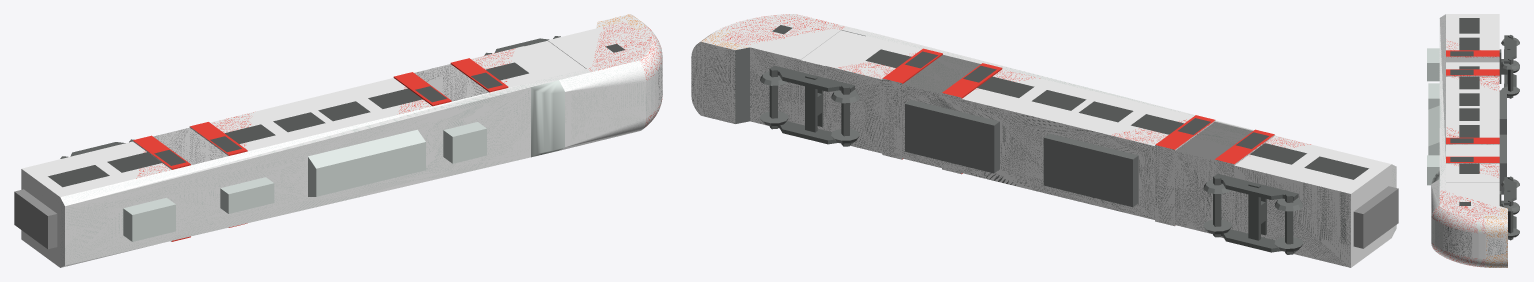
The model's file is train_1_state_2.dae.
3 views of the same model, side by side, from view 1: azimuth 30°, elevation 25°; view 2: azimuth 150°, elevation 25°; view 3: azimuth 270°, elevation 25° (orthographic). The views are drawn at different scales.
Parts seen in each view (by area): view 1: coords_ME_ID231_MA_material_3, coords_ME_ID231_MA_material_10, coords_ME_ID379_MA_material_1, coords_ME_ID271_MA_material_3, coords_ME_ID453_MA_material_3, coords_ME_ID723_MA_material_3, coords_ME_ID295_MA_material_3, coords_ME_ID153_MA_material_1, coords_ME_ID417_MA_material_1, coords_ME_ID339_MA_material_1, coords_ME_ID391_MA_material_1, coords_ME_ID403_MA_material_3 (+20 smaller); view 2: coords_ME_ID723_MA_material_3, coords_ME_ID723_MA_material_13, coords_ME_ID217_MA_material_0, coords_ME_ID247_MA_material_0, coords_ME_ID453_MA_material_3, coords_ME_ID271_MA_material_3, coords_ME_ID231_MA_material_3, coords_ME_ID519_MA_material_3, coords_ME_ID295_MA_material_3, coords_ME_ID231_MA_material_10, coords_ME_ID403_MA_material_3, coords_ME_ID353_MA_material_14 (+28 smaller); view 3: coords_ME_ID453_MA_material_3, coords_ME_ID271_MA_material_3, coords_ME_ID231_MA_material_3, coords_ME_ID295_MA_material_3, coords_ME_ID185_MA_material_3, coords_ME_ID797_MA_material_3, coords_ME_ID579_MA_material_3, coords_ME_ID231_MA_material_10, coords_ME_ID295_MA_material_11, coords_ME_ID379_MA_material_1, coords_ME_ID403_MA_material_3, coords_ME_ID429_MA_material_3 (+46 smaller).
Part boxes in pixels (x1,y1,x2,y2): coords_ME_ID231_MA_material_3: (60,60,658,267); coords_ME_ID231_MA_material_10: (60,61,658,267); coords_ME_ID379_MA_material_1: (308,129,425,196); coords_ME_ID271_MA_material_3: (21,141,143,267); coords_ME_ID453_MA_material_3: (245,78,404,151); coords_ME_ID723_MA_material_3: (153,64,488,165); coords_ME_ID295_MA_material_3: (587,21,662,81); coords_ME_ID153_MA_material_1: (531,80,564,157); coords_ME_ID417_MA_material_1: (123,197,175,241); coords_ME_ID339_MA_material_1: (443,122,486,163); coords_ME_ID391_MA_material_1: (220,177,274,213); coords_ME_ID403_MA_material_3: (548,26,604,68); coords_ME_ID723_MA_material_3: (750,47,1350,267); coords_ME_ID723_MA_material_13: (750,48,1350,267); coords_ME_ID217_MA_material_0: (1043,133,1138,207); coords_ME_ID247_MA_material_0: (905,99,999,173); coords_ME_ID453_MA_material_3: (962,78,1193,133); coords_ME_ID271_MA_material_3: (1235,145,1391,267); coords_ME_ID231_MA_material_3: (842,26,1396,237); coords_ME_ID519_MA_material_3: (691,42,735,123); coords_ME_ID295_MA_material_3: (719,14,845,45); coords_ME_ID231_MA_material_10: (848,28,1396,231); coords_ME_ID403_MA_material_3: (741,29,840,59); coords_ME_ID353_MA_material_14: (1363,188,1398,248); coords_ME_ID453_MA_material_3: (1446,76,1499,137); coords_ME_ID271_MA_material_3: (1446,14,1499,69); coords_ME_ID231_MA_material_3: (1431,14,1445,249); coords_ME_ID295_MA_material_3: (1431,190,1499,233); coords_ME_ID185_MA_material_3: (1483,206,1507,267); coords_ME_ID797_MA_material_3: (1443,225,1472,257); coords_ME_ID579_MA_material_3: (1446,144,1499,156); coords_ME_ID231_MA_material_10: (1431,14,1445,246); coords_ME_ID295_MA_material_11: (1432,191,1499,233); coords_ME_ID379_MA_material_1: (1428,105,1439,155); coords_ME_ID403_MA_material_3: (1446,190,1499,208); coords_ME_ID429_MA_material_3: (1446,163,1499,181).
Bounding box in the file's own units: 267 × 29.51 × 49.45.
